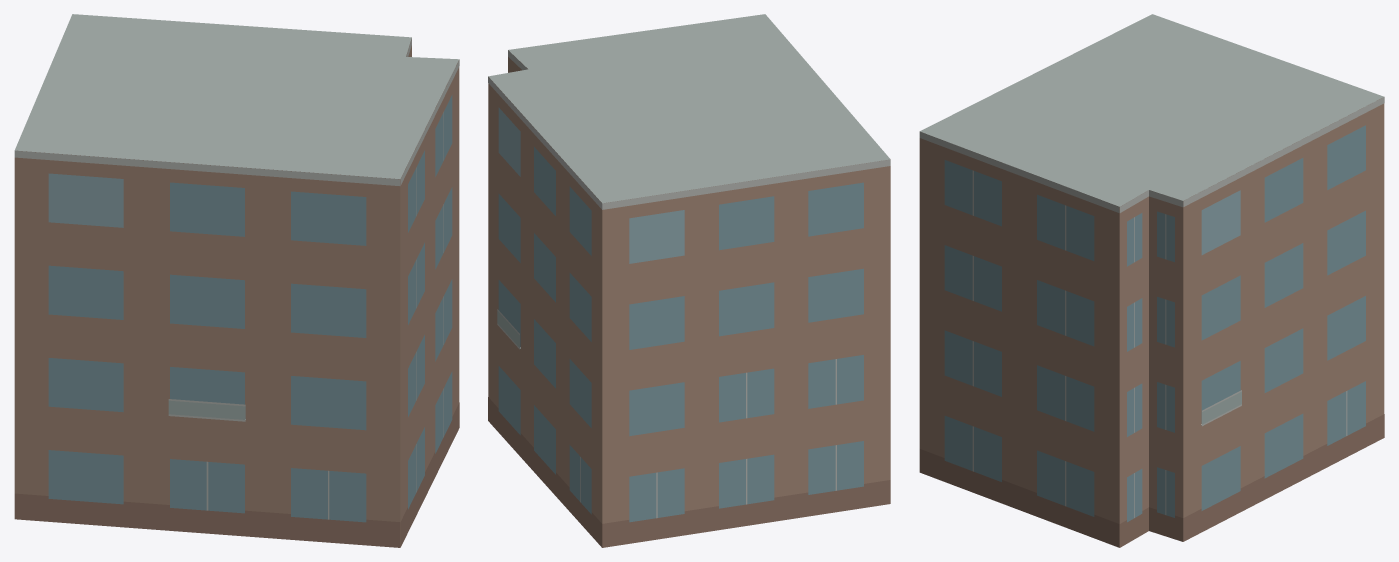
Rendered from survey-upis-32836632.glb.
3 views of the same model, side by side, from view 1: azimuth 30°, elevation 25°; view 2: azimuth 150°, elevation 25°; view 3: azimuth 270°, elevation 25° (orthographic). The views are drawn at different scales.
Visible parts, largest first — view 1: survey-upis-32836632.tmp; view 2: survey-upis-32836632.tmp; view 3: survey-upis-32836632.tmp.
Boxes of the visible parts, x1=… form: survey-upis-32836632.tmp: x1=14, y1=14, x2=459, y2=547; survey-upis-32836632.tmp: x1=488, y1=14, x2=890, y2=547; survey-upis-32836632.tmp: x1=919, y1=14, x2=1384, y2=547.
Bounding box in the file's own units: 15.53 × 12.8 × 15.82.
